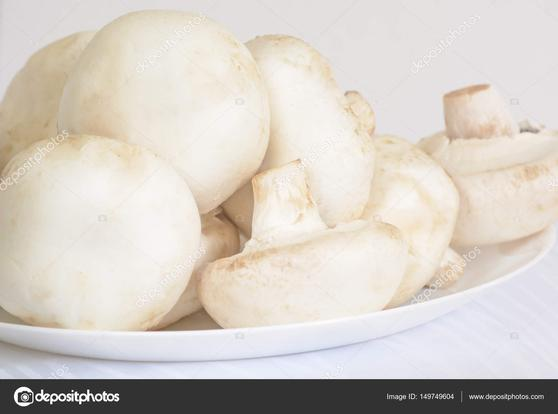champignon: (196, 164, 418, 325)
